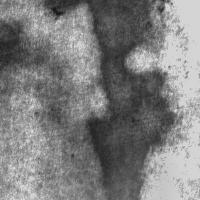patches: (85, 33, 176, 199), (52, 125, 166, 200), (47, 1, 166, 53), (56, 122, 124, 190), (1, 18, 49, 71)
